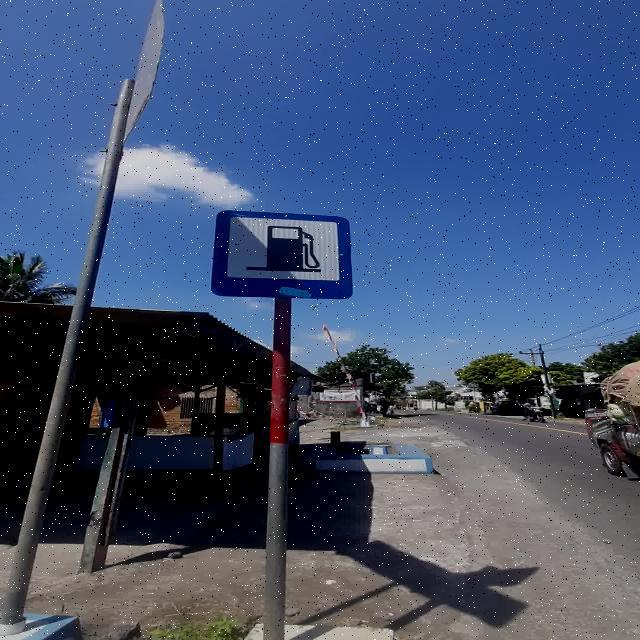Pom Bensin: (211, 210, 354, 300)
